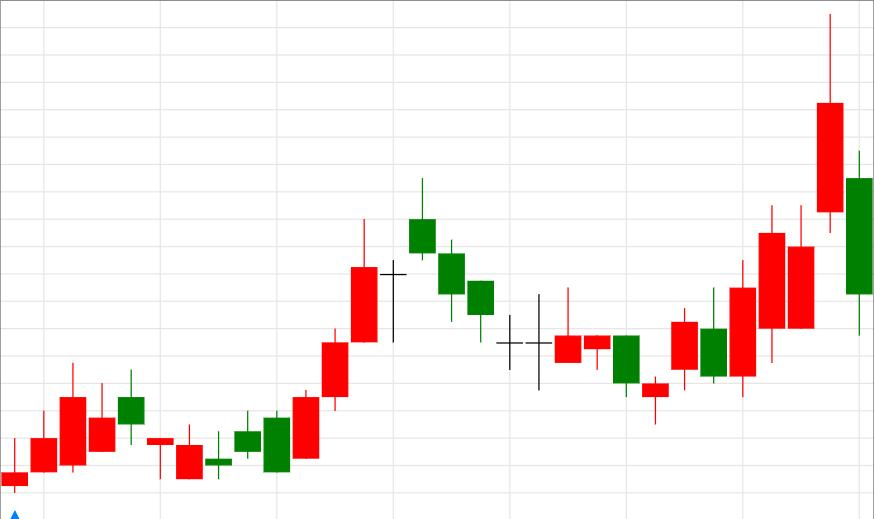morning_star_rise: (409, 177, 698, 425)
three_white_soldiers_rise: (118, 218, 378, 479)
